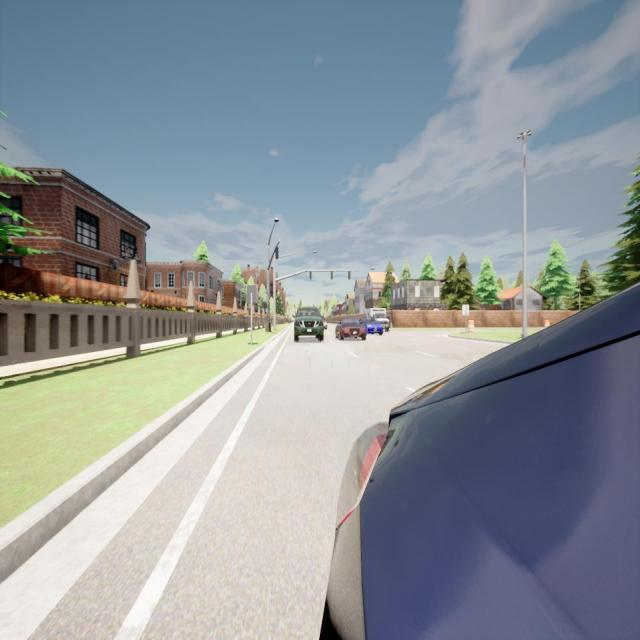Traffic_Signs: (247, 286, 257, 304), (462, 304, 470, 315)
Vehicle: (327, 284, 639, 638), (292, 307, 324, 342), (336, 318, 366, 341), (367, 309, 390, 332), (366, 318, 382, 335), (322, 313, 328, 329)
traffic_light: (276, 246, 279, 259), (348, 271, 351, 280), (310, 271, 312, 280), (331, 272, 333, 280)
